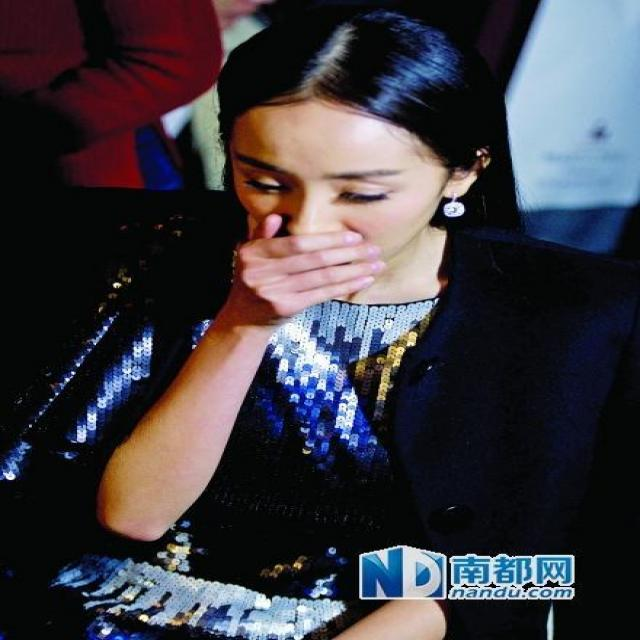nomask: (230, 98, 433, 290)
